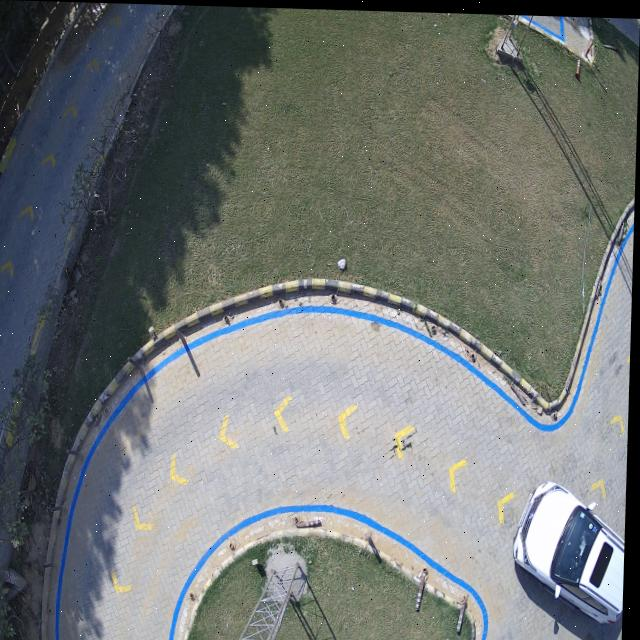car: (516, 478, 628, 620)
